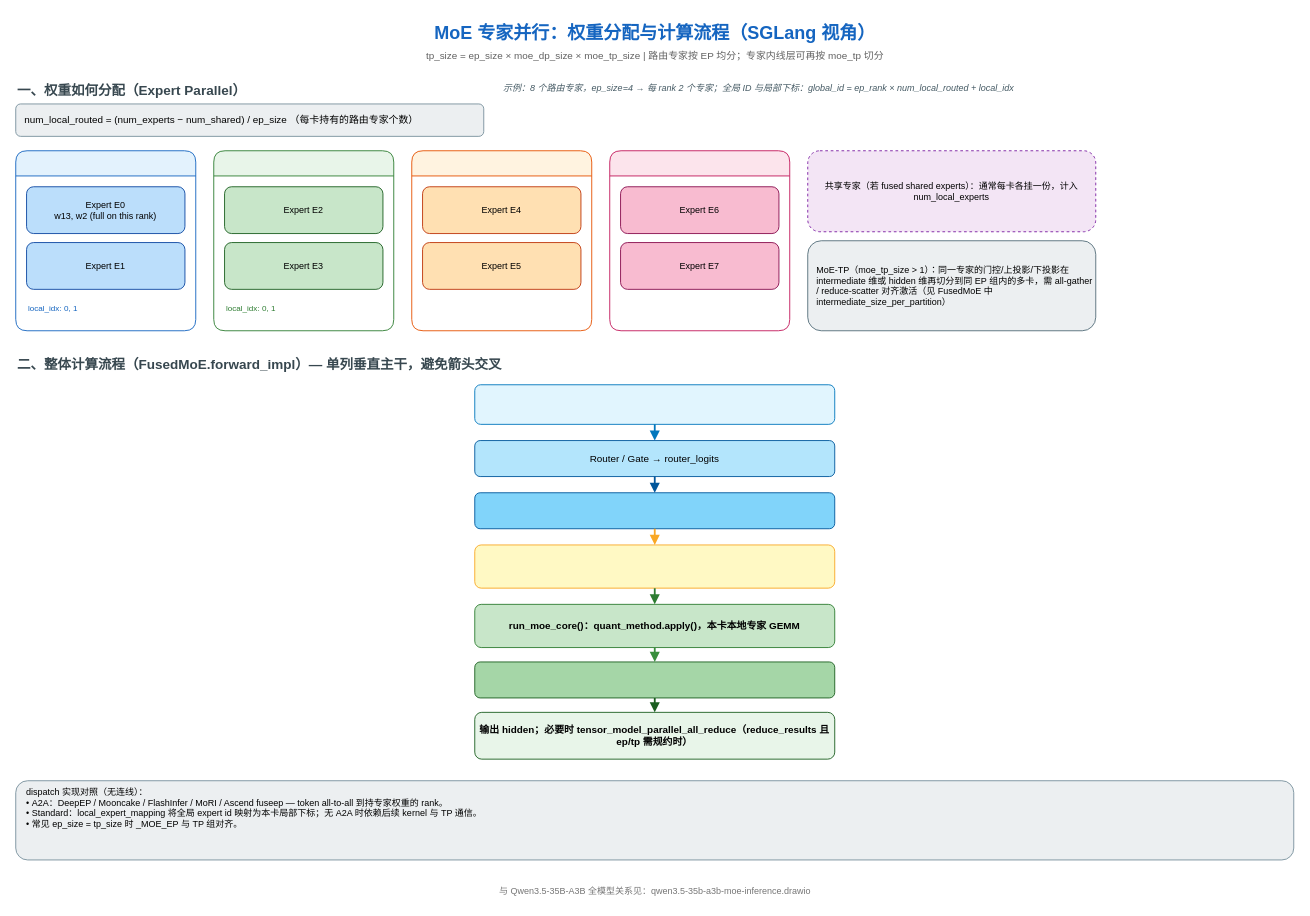
Some shapes in this 1310 by 916 pixel diagram are drawn without their labels. Here are the shapes that lost their labels. From the top down, the box of each, then its label:
(15, 150, 196, 331): GPU rank 0 (moe_ep_rank=0)
(213, 150, 394, 331): GPU rank 1 (moe_ep_rank=1)
(411, 150, 592, 331): GPU rank 2
(609, 150, 790, 331): GPU rank 3
(474, 384, 835, 424): 各 TP rank：hidden_states (tokens)
(474, 492, 835, 529): TopK → topk_ids, topk_weights
(474, 544, 835, 588): dispatcher.dispatch()（内部选 A2A 或 Standard，不在此分叉画线）
(474, 661, 835, 698): dispatcher.combine()
